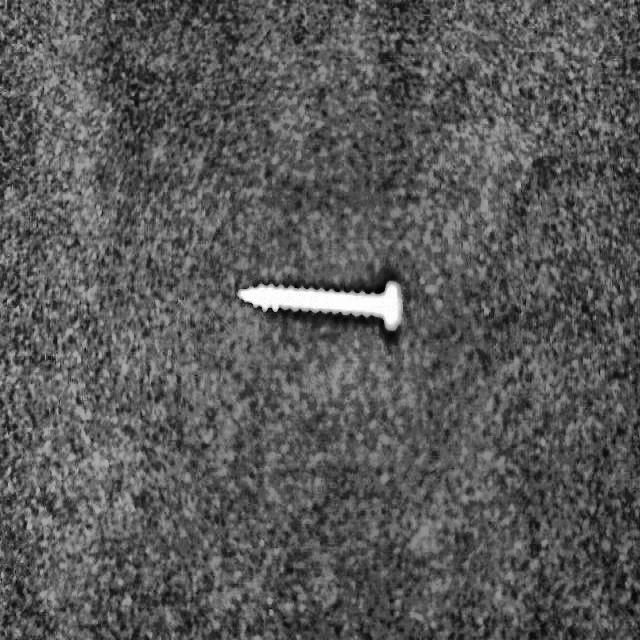Sheet metal screw: (237, 280, 402, 329)
